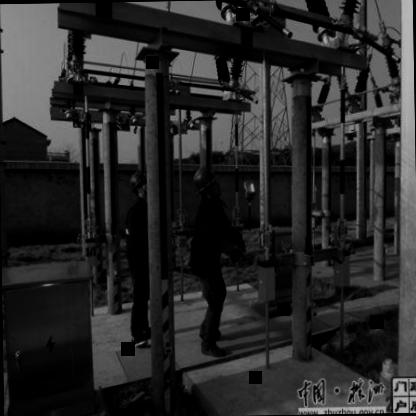helmet: (191, 165, 221, 206), (126, 168, 152, 202)
